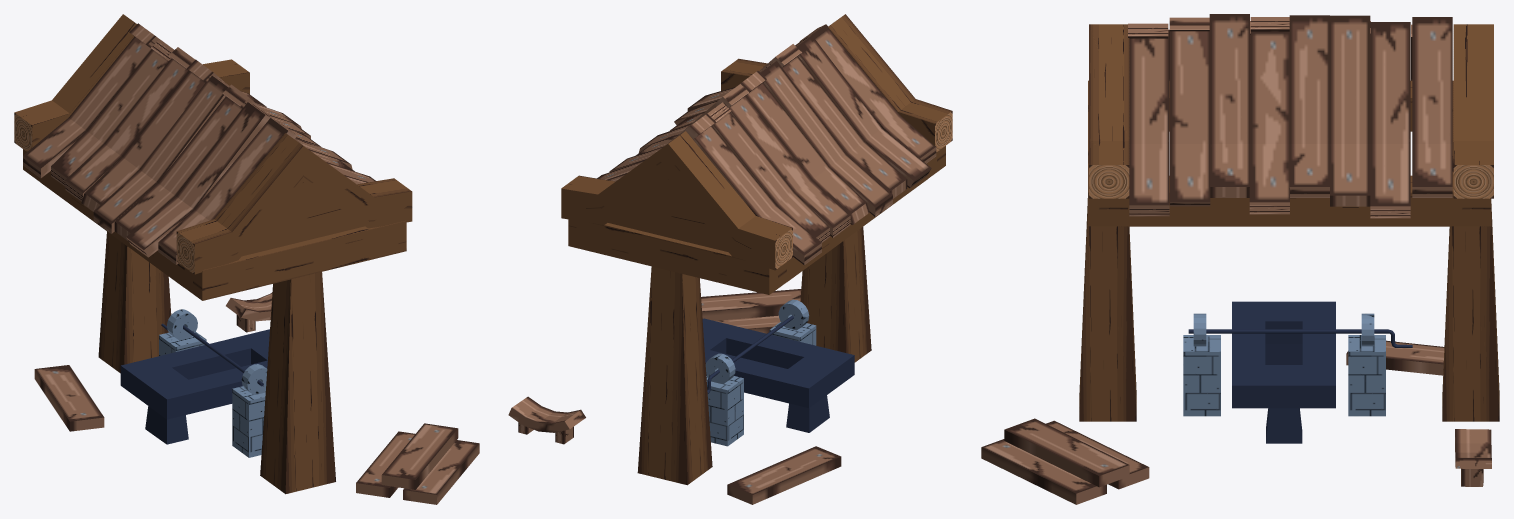
Rendered from Aserradero.fbx.
3 renders of one model, left to right at view 1: azimuth 30°, elevation 25°; view 2: azimuth 150°, elevation 25°; view 3: azimuth 270°, elevation 25°, orthographic. The views are drawn at different scales.
Visible parts, largest first — view 1: Aserradero; view 2: Aserradero; view 3: Aserradero.
Boxes of the visible parts, x1,y1,x2,y2 form: Aserradero: [14, 14, 479, 504]; Aserradero: [508, 14, 952, 504]; Aserradero: [981, 14, 1499, 504].
Size of the model in its own units: 1008 by 1370 by 1159.
4 materials, 4 textured.
